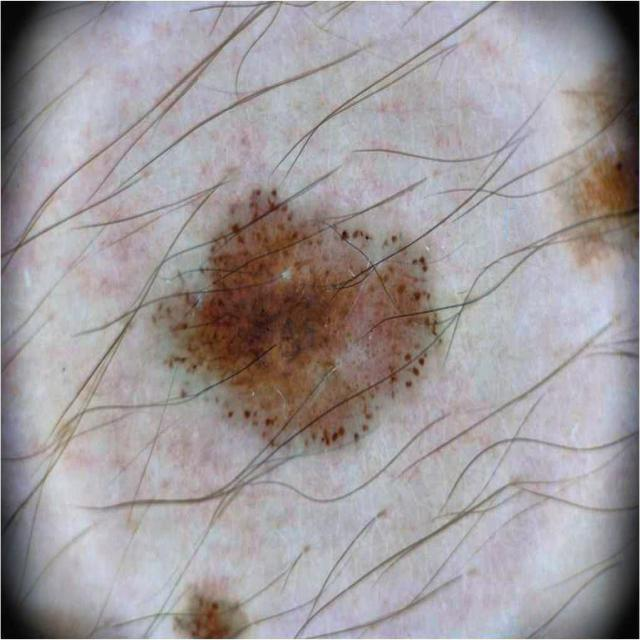Melanocytic-Nevi-NV-: (180, 192, 439, 453), (565, 155, 636, 266), (175, 586, 249, 638)
